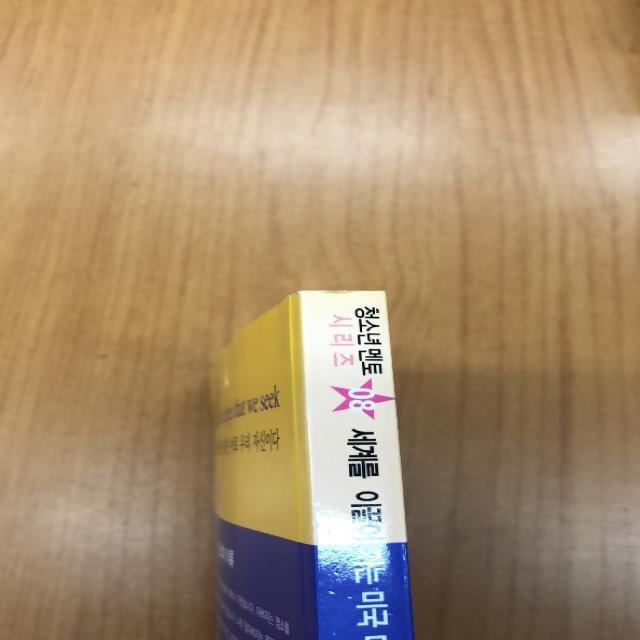Wornout: (286, 281, 393, 304)
